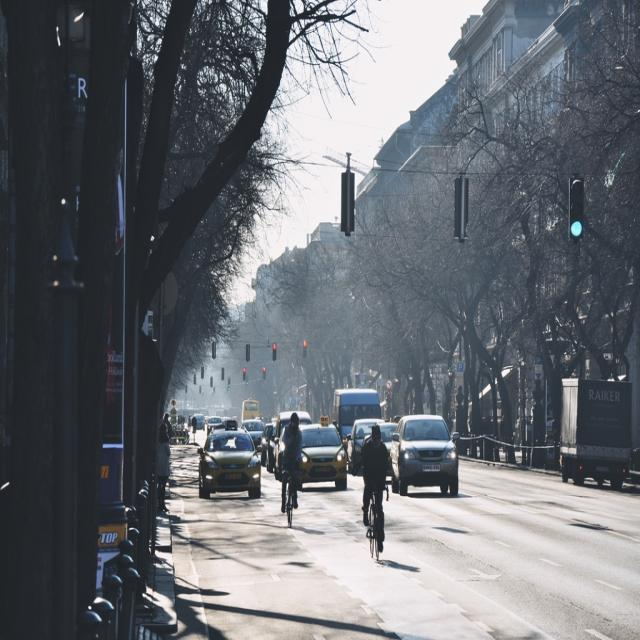traffic light: (567, 176, 585, 238)
